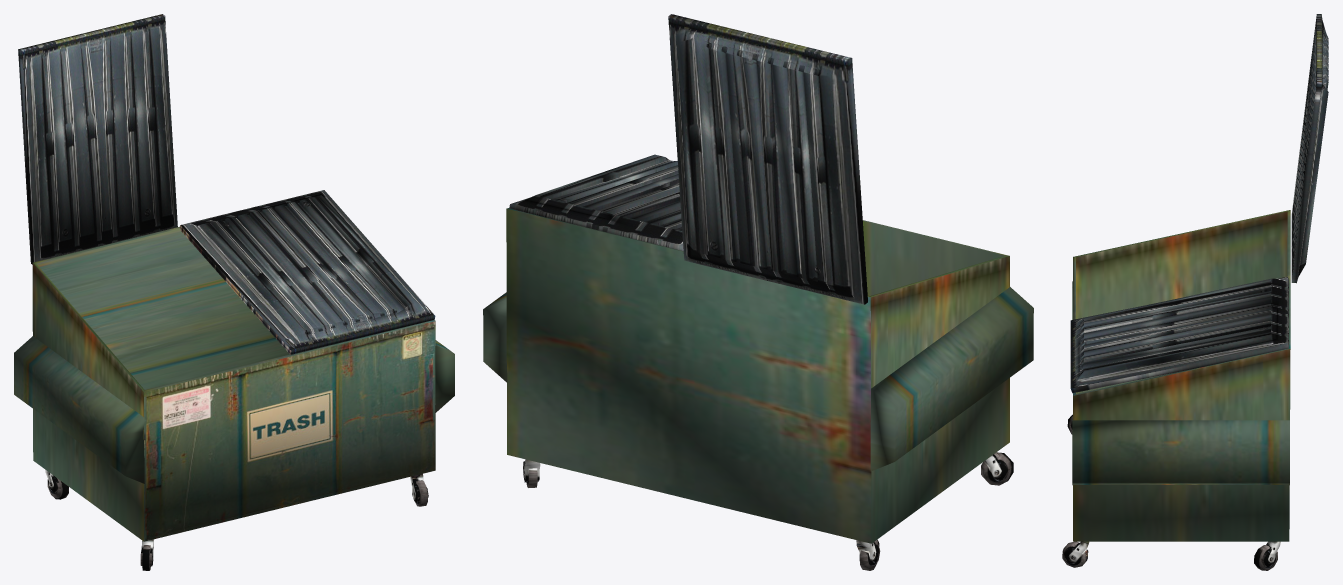
Rendered from dumpster_half.fbx.
3 renders of one model, left to right at view 1: azimuth 30°, elevation 25°; view 2: azimuth 150°, elevation 25°; view 3: azimuth 270°, elevation 25°, orthographic. The views are drawn at different scales.
Parts seen in each view (by area): view 1: box0, doora0, doorb0, NoName_9, wheels0, bolsters0; view 2: box0, doora0, NoName_9, doorb0, wheels0, bolsters0; view 3: box0, doorb0, bolsters0, doora0, wheels0.
Boxes of the visible parts, x1,y1,x2,y2 form: box0: [32, 227, 435, 541]; doora0: [18, 14, 177, 264]; doorb0: [179, 190, 435, 354]; NoName_9: [14, 336, 144, 483]; wheels0: [45, 469, 428, 570]; bolsters0: [435, 340, 454, 412]; box0: [506, 208, 1009, 543]; doora0: [668, 14, 867, 304]; NoName_9: [870, 287, 1033, 471]; doorb0: [509, 154, 683, 250]; wheels0: [523, 452, 1013, 570]; bolsters0: [483, 292, 507, 382]; box0: [1073, 210, 1290, 541]; doorb0: [1070, 276, 1288, 393]; bolsters0: [1072, 419, 1289, 485]; doora0: [1291, 14, 1328, 283]; wheels0: [1062, 414, 1280, 570].
Bounding box in the file's own units: 3.56 × 4.45 × 2.55.
